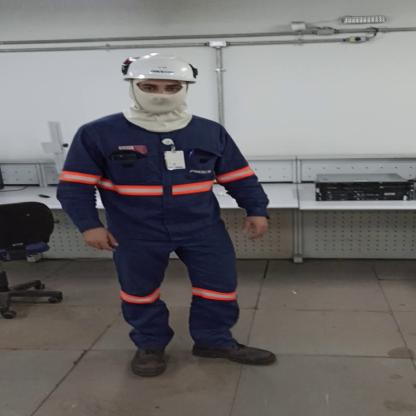Balaclava: (117, 82, 201, 134)
Capacete: (112, 52, 206, 84)
